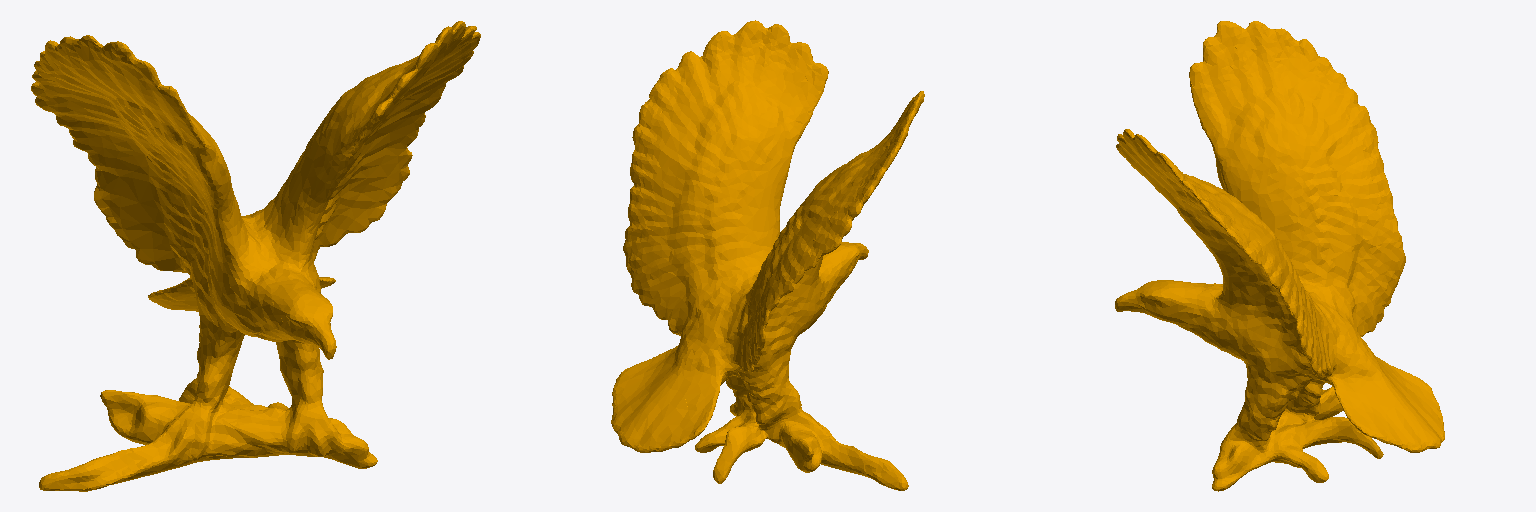
The robot description file, URDF, robot "ltrarmqq":
<?xml version='1.0'?>

<robot name="ltrarmqq">
    <static>false</static>
    <link name="link">
        <inertial>
            <mass value="0.1490544037083791"/>
            <inertia ixx="0.00018058144402342672" ixy="5.271231741199041e-06" ixz="4.150339536397631e-06"
                     iyy="0.00019166077860773454" iyz="2.9637111713169264e-05" izz="9.676421369012012e-05"/>
        </inertial>
        <collision name="collision">
            <geometry>
                <mesh filename="package://miscnet/train/ltrarmqq/collision_model_vhacd.obj"/>
            </geometry>
        </collision>
        <visual name="visual">
            <geometry>
                <mesh filename="package://miscnet/train/ltrarmqq/visual_model.obj"/>
            </geometry>
        </visual>
    </link>
</robot>

--- Facts derived from the render (not from the file) ---
3 views of the same robot in one strip: view 1: azimuth 30°, elevation 25°; view 2: azimuth 150°, elevation 25°; view 3: azimuth 270°, elevation 25° (orthographic).
Robot: ltrarmqq — 1 links, 0 joints (none); root link link; default pose: every joint at zero.
Links seen in each view (by area): view 1: link; view 2: link; view 3: link.
Boxes of the visible links, x1,y1,x2,y2 form: link: (31,21,480,491); link: (611,20,924,490); link: (1115,21,1444,491).
Bounding box of the posed robot: 0.1098 × 0.1027 × 0.1294 m (x, y, z).
1 mesh visuals loaded from 1 distinct referenced files (1 OBJ).
